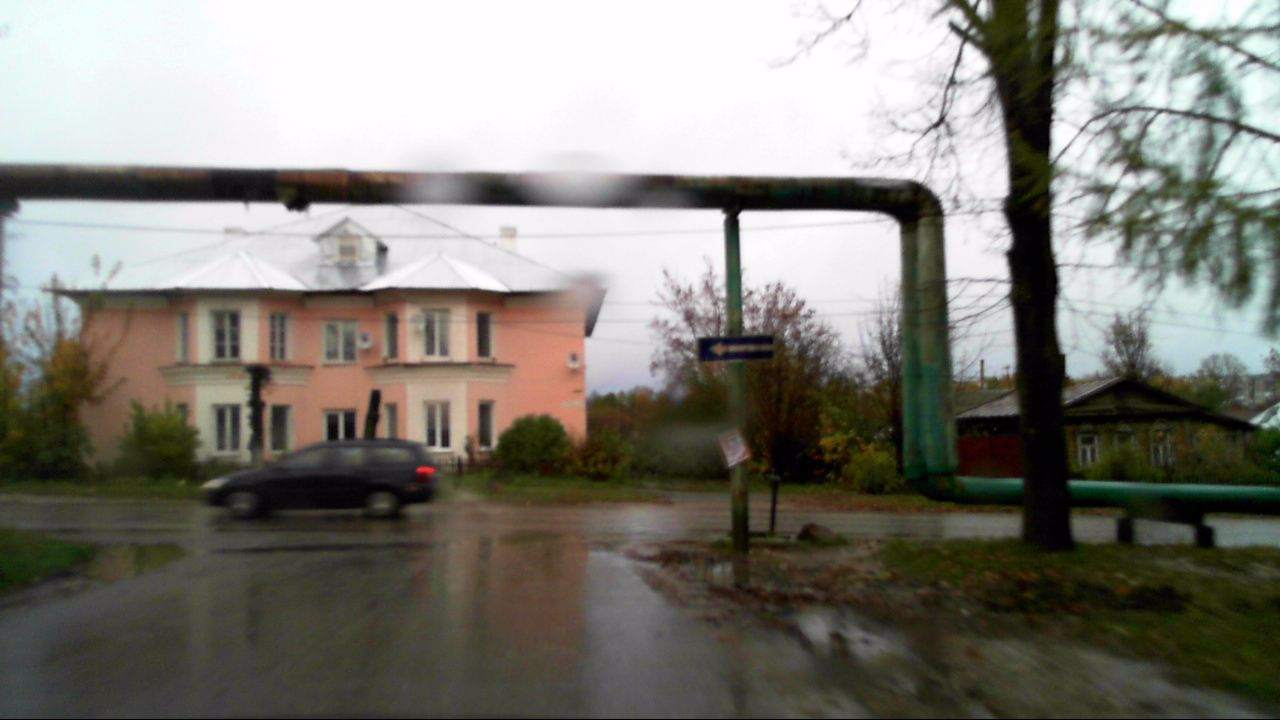One-Way Traffic: (698, 336, 774, 361)
